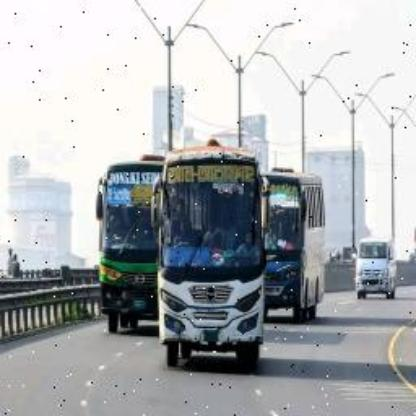bus: (152, 142, 264, 366), (85, 155, 159, 332), (258, 158, 328, 330)
